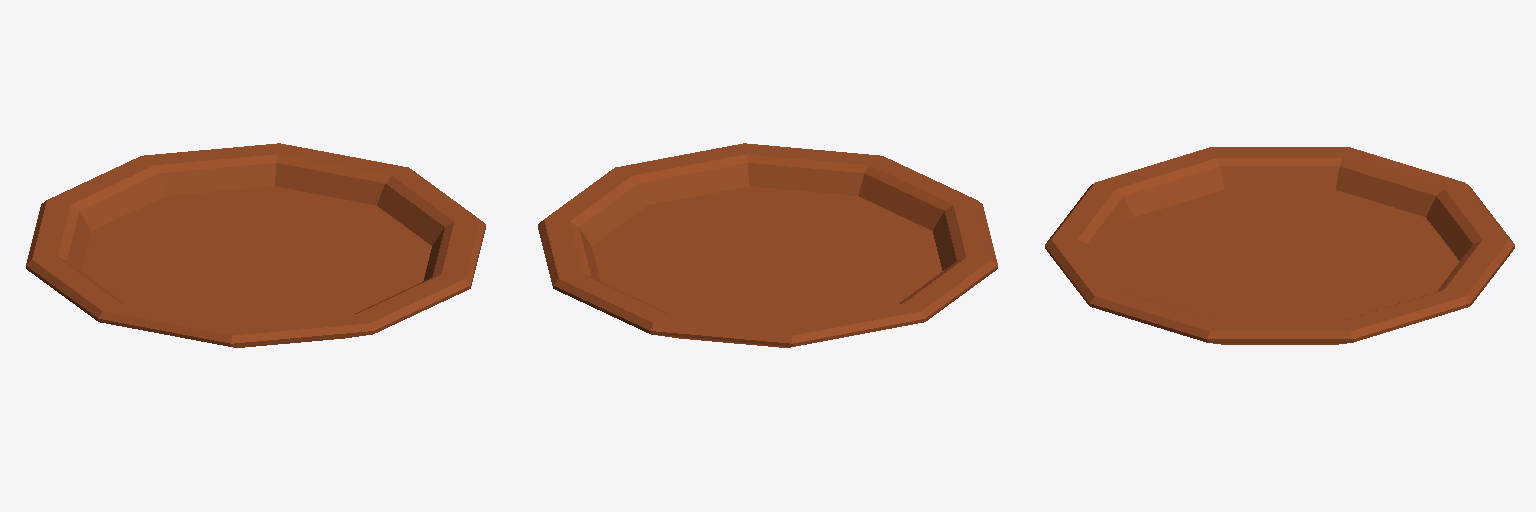
Rendered from Plate1.obj.
3 renders of one model, left to right at view 1: azimuth 30°, elevation 25°; view 2: azimuth 150°, elevation 25°; view 3: azimuth 270°, elevation 25°, orthographic.
Parts seen in each view (by area): view 1: Plate1_Cylinder.003; view 2: Plate1_Cylinder.003; view 3: Plate1_Cylinder.003.
Boxes of the visible parts, box(x1,y1,x2,y2) form: Plate1_Cylinder.003: box(26, 143, 485, 347); Plate1_Cylinder.003: box(538, 143, 997, 347); Plate1_Cylinder.003: box(1045, 147, 1514, 344).
Size of the model in its own units: 0.5159 by 0.042 by 0.5425.